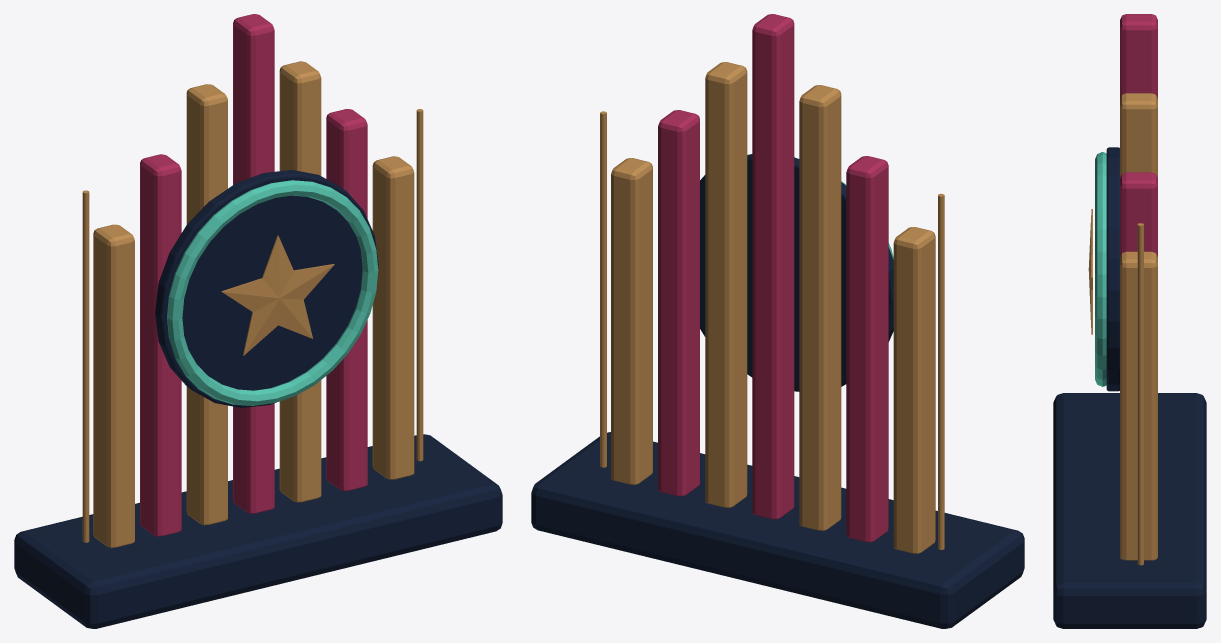
The model's file is Region_penthouse.fbx.
3 views of the same model, side by side, from view 1: azimuth 30°, elevation 25°; view 2: azimuth 150°, elevation 25°; view 3: azimuth 270°, elevation 25° (orthographic). The views are drawn at different scales.
Visible parts, largest first — view 1: Region_penthouse.Mesh; view 2: Region_penthouse.Mesh; view 3: Region_penthouse.Mesh.
Part boxes in pixels (x1,y1,x2,y2): Region_penthouse.Mesh: (14,14,502,628); Region_penthouse.Mesh: (531,14,1024,628); Region_penthouse.Mesh: (1053,14,1206,628).
Size of the model in its own units: 260 by 316 by 85.
